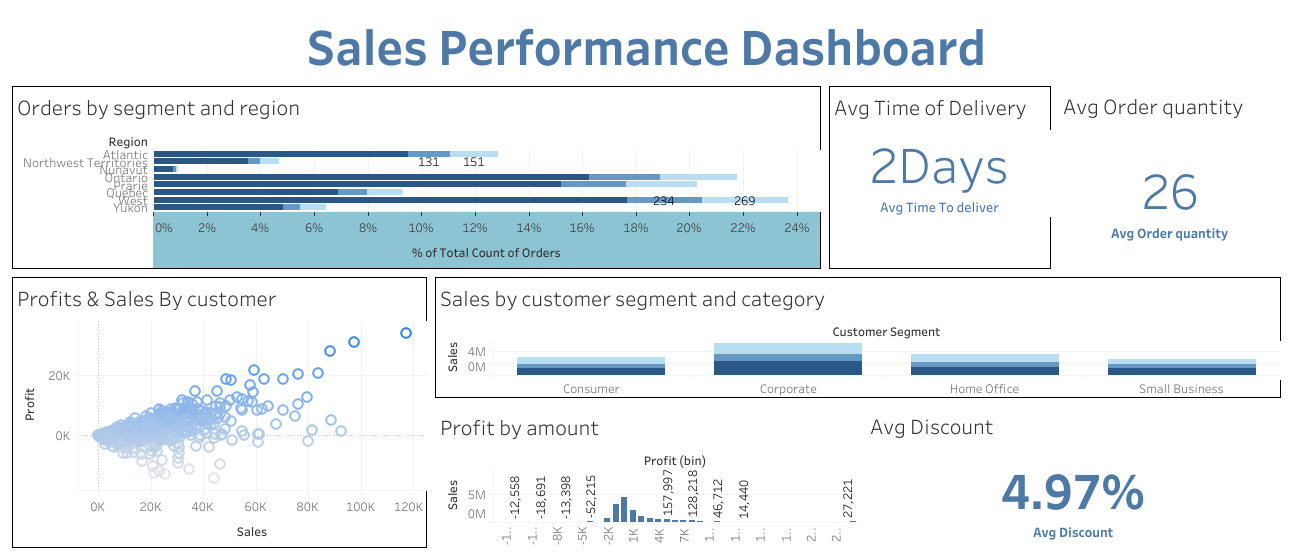

This screenshot's page, from the dashboard's own definition file:
{"tool":"tableau","page":{"name":"Sales perfromance Dashboard","canvas":[1000,1000],"units":"permille","ordinal":0},"visuals":[{"type":"title","box":[7.2,13.5,985.7,123.3]},{"type":"worksheet","title":"Orders by segment and region","mark":"Automatic","rows":["Region"],"cols":["Orders_3B4D5DC1B4E04B88A6C891D0EBA98174"],"box":[7.2,136.8,630.8,344.6]},{"type":"worksheet","title":"Avg Time of Delivery","mark":"Automatic","box":[638,136.8,177.4,344.6]},{"type":"worksheet","title":"Avg Order quantity","mark":"Automatic","box":[815.4,136.8,177.4,344.6]},{"type":"worksheet","title":"Profits & Sales By customer","mark":"Automatic","rows":["Profit"],"cols":["Sales"],"box":[7.2,481.4,326.2,505.1]},{"type":"worksheet","title":"Sales by customer segment and category","mark":"Automatic","rows":["Sales"],"cols":["Customer Segment"],"box":[333.3,481.4,659.5,233.1]},{"type":"worksheet","title":"Profit by amount","mark":"Automatic","rows":["Sales"],"cols":["Profit (bin)"],"box":[333.3,714.5,333.3,272]},{"type":"worksheet","title":"Avg Discount","mark":"Automatic","box":[666.7,714.5,326.2,272]}]}

Visuals, with their boxes on the dashboard's canvas, which has no fixed pixel size, in thousandths of its width and height (x1, y1, x2, y2). These are canvas units, not pixel positions in the 1292x559 screenshot, which may show the page scaled, cropped or inside an application window:
title: 7, 14, 993, 137
"Orders by segment and region" worksheet: 7, 137, 638, 481
"Avg Time of Delivery" worksheet: 638, 137, 815, 481
"Avg Order quantity" worksheet: 815, 137, 993, 481
"Profits & Sales By customer" worksheet: 7, 481, 333, 986
"Sales by customer segment and category" worksheet: 333, 481, 993, 714
"Profit by amount" worksheet: 333, 714, 667, 986
"Avg Discount" worksheet: 667, 714, 993, 986
